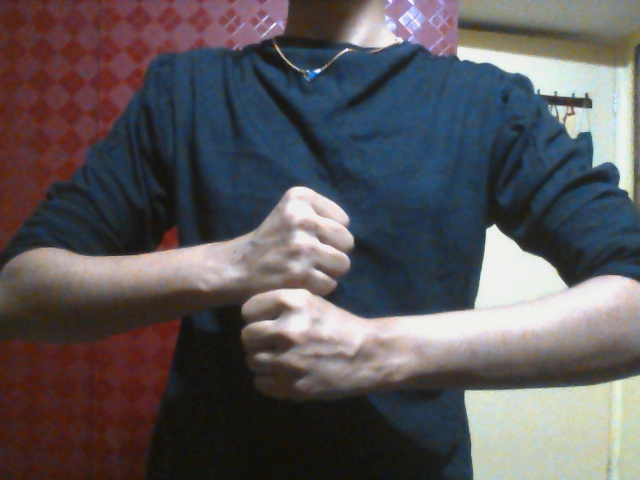G: (237, 184, 371, 404)
